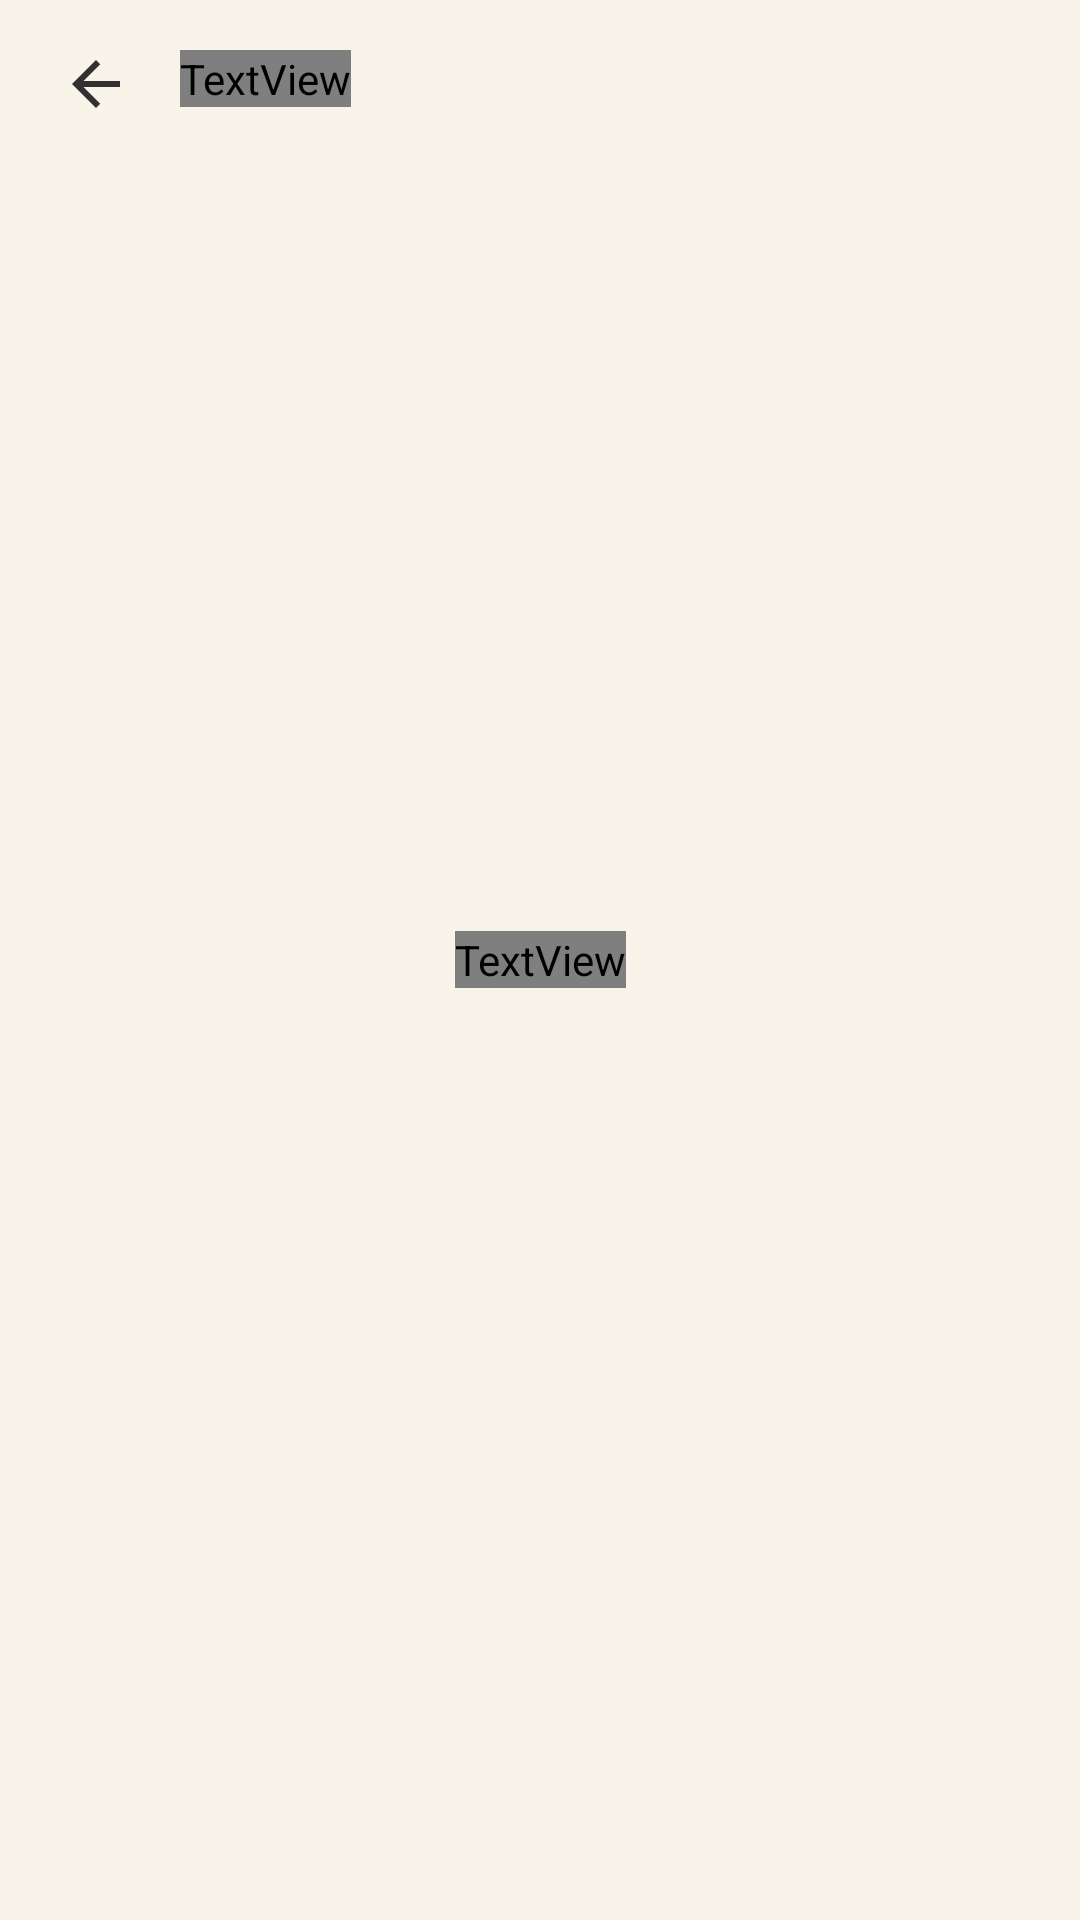

Screen size 1080×1920. Icon name, then its box in pixels as (left=x1, top=y1, right=x2, bottom=y2):
Кнопка повернутися назад: (left=72, top=60, right=120, bottom=108)
